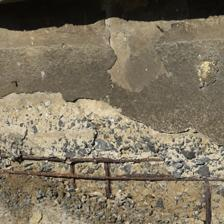Crack: (40, 73, 83, 148), (0, 188, 59, 224)
